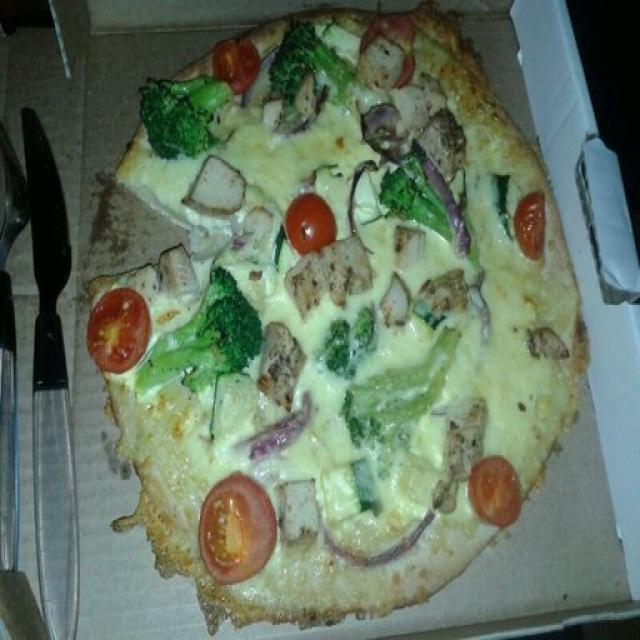Chicken: (276, 233, 380, 320), (178, 153, 252, 215), (416, 104, 470, 181), (258, 321, 302, 412), (350, 37, 410, 93), (442, 402, 483, 482), (158, 240, 202, 310), (283, 480, 320, 550)
Onions: (409, 135, 470, 253), (322, 512, 436, 568), (237, 389, 315, 454), (356, 99, 412, 159)
Pizza: (86, 10, 579, 633)
Tomato: (199, 475, 277, 587), (86, 287, 152, 377), (467, 454, 523, 528), (282, 192, 338, 260), (210, 37, 262, 100), (513, 189, 546, 261)
